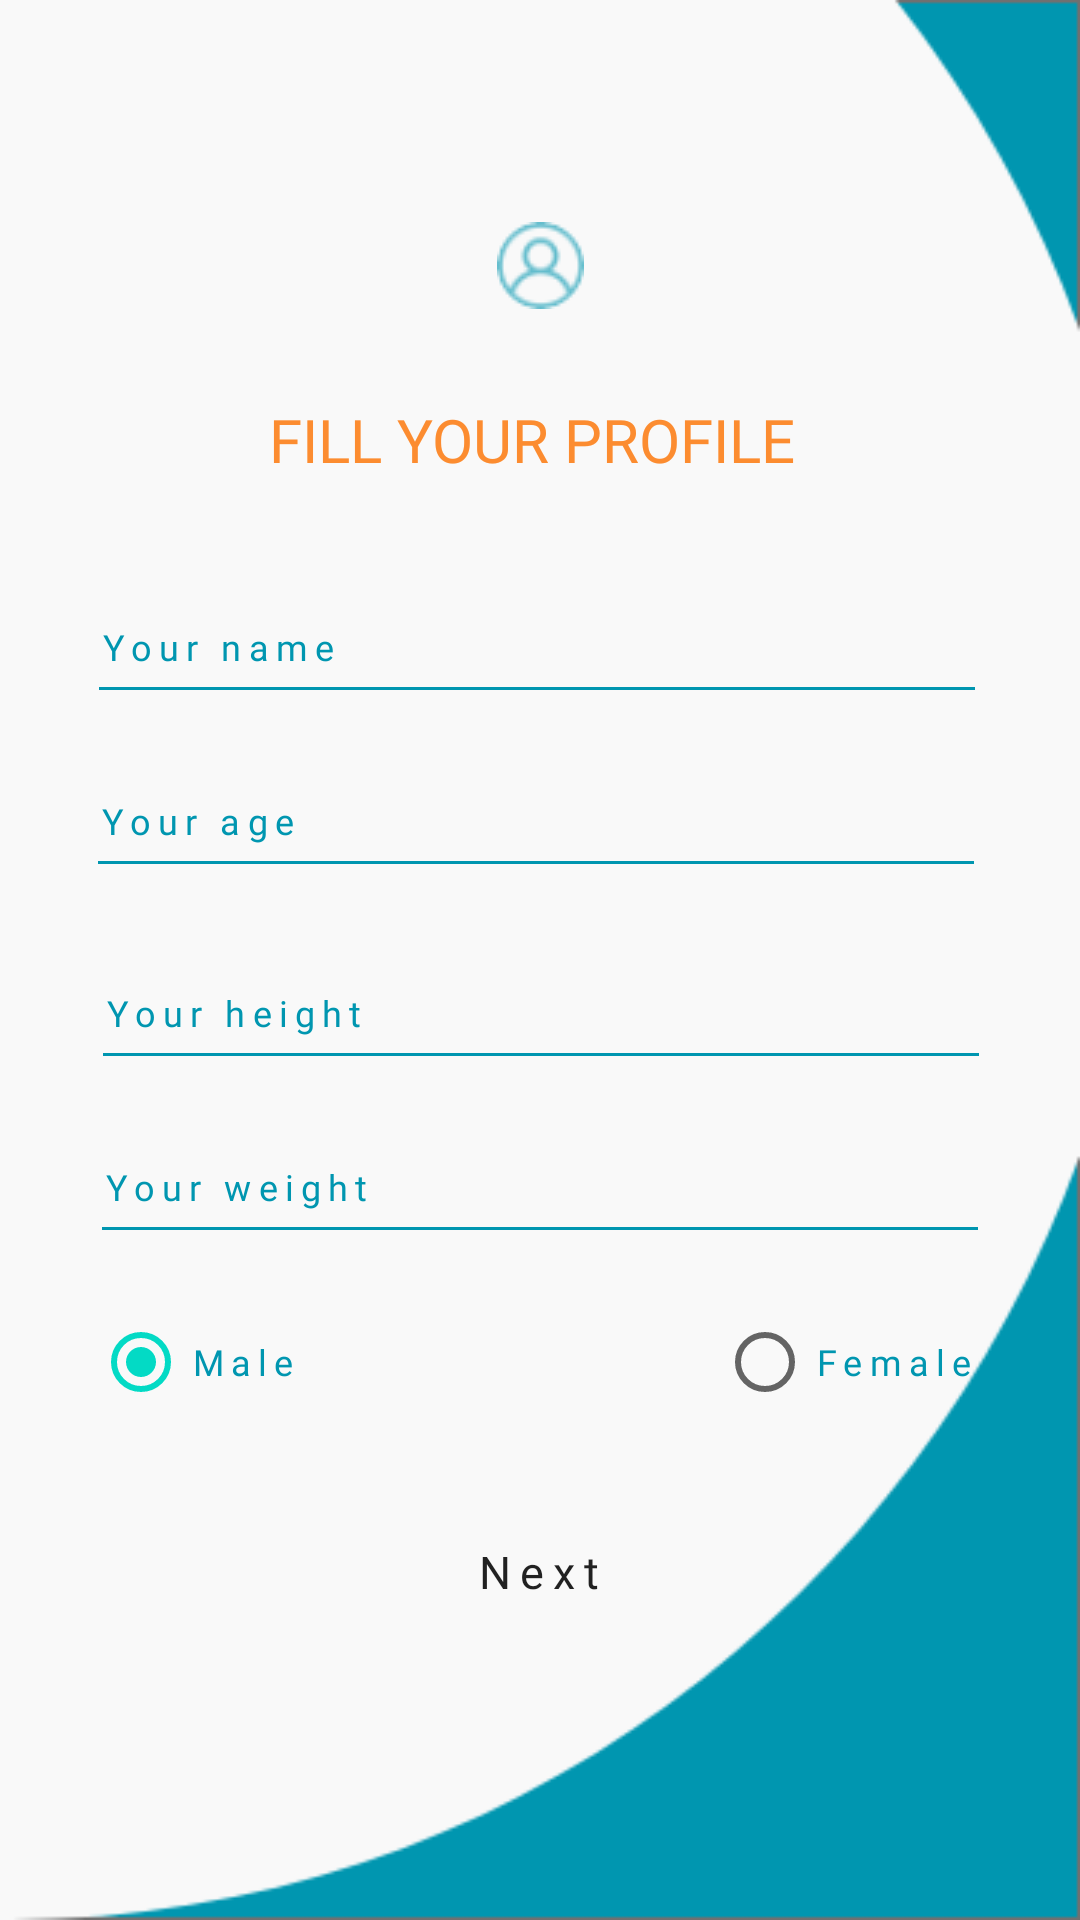

Point at icon controls on the screen. Image size 1080×1920, points as [x,y].
user: [540,265]
